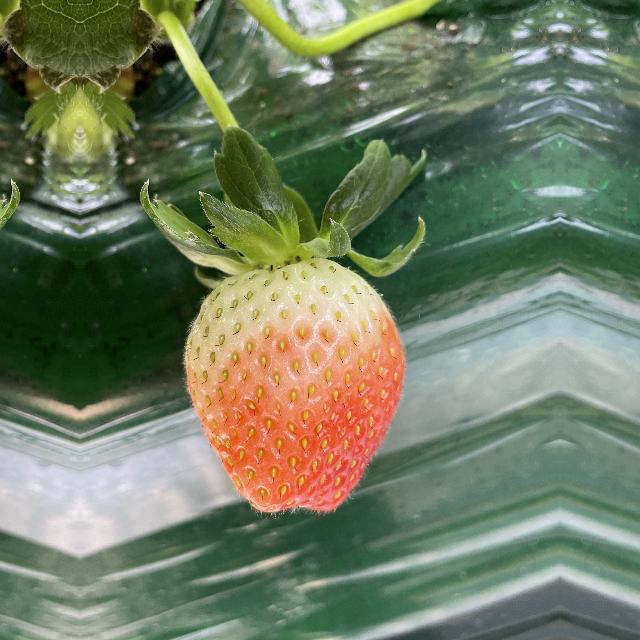Health_75: (178, 264, 412, 524)
